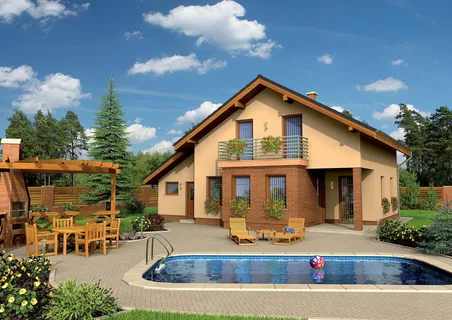private_hause: (162, 95, 402, 230)
